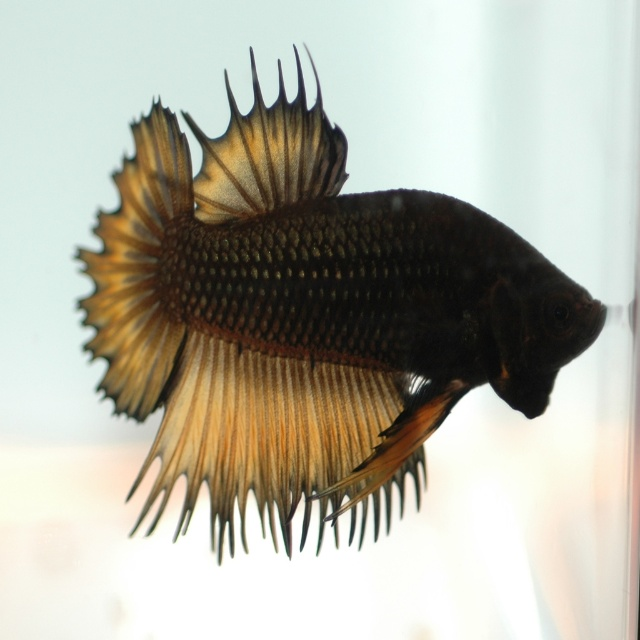Fish: (79, 37, 604, 562)
